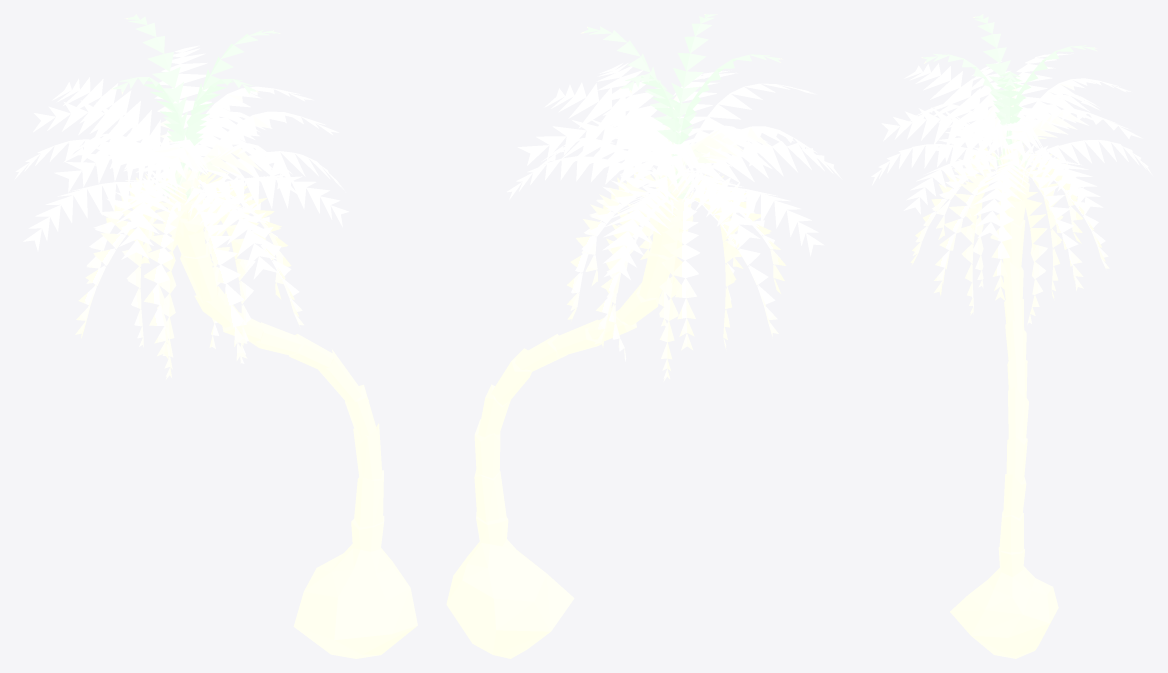
File: SRC_palm_curve.glb
3 views of the same model, side by side, from view 1: azimuth 30°, elevation 25°; view 2: azimuth 150°, elevation 25°; view 3: azimuth 270°, elevation 25° (orthographic). The views are drawn at different scales.
Visible parts, largest first — view 1: SRC_palm_curve; view 2: SRC_palm_curve; view 3: SRC_palm_curve.
Boxes of the visible parts, x1,y1,x2,y2 form: SRC_palm_curve: (14,14,417,658); SRC_palm_curve: (446,14,842,658); SRC_palm_curve: (871,14,1152,658).
Bounding box in the file's own units: 5.04 × 8.5 × 4.03.
1 material, 1 textured.
